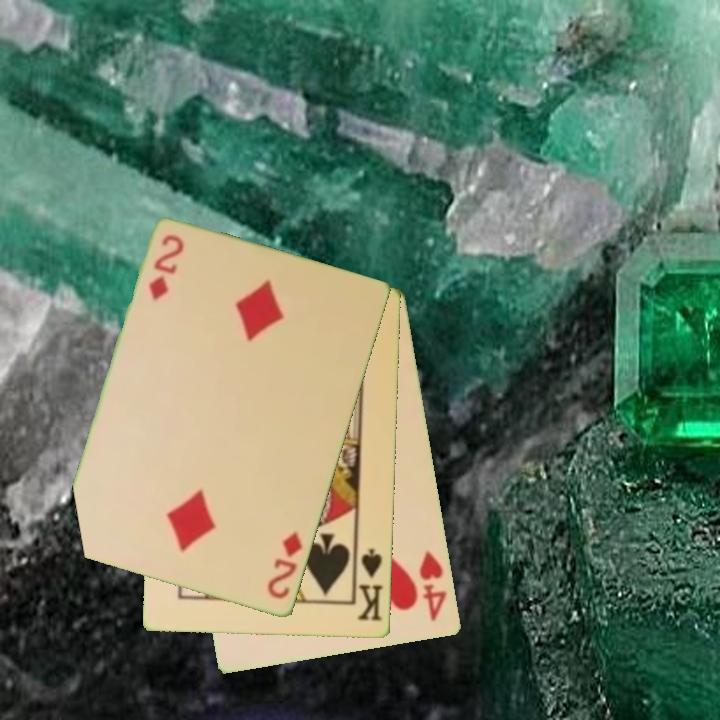2d: (264, 529, 306, 603), (145, 231, 187, 304)
4h: (416, 547, 450, 625)
Ks: (352, 544, 386, 624)
